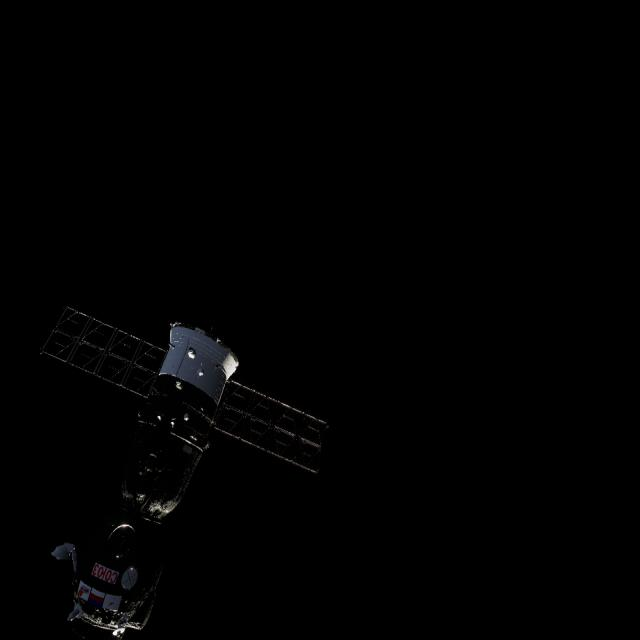Satellites revolving around earth: (37, 302, 330, 636)
